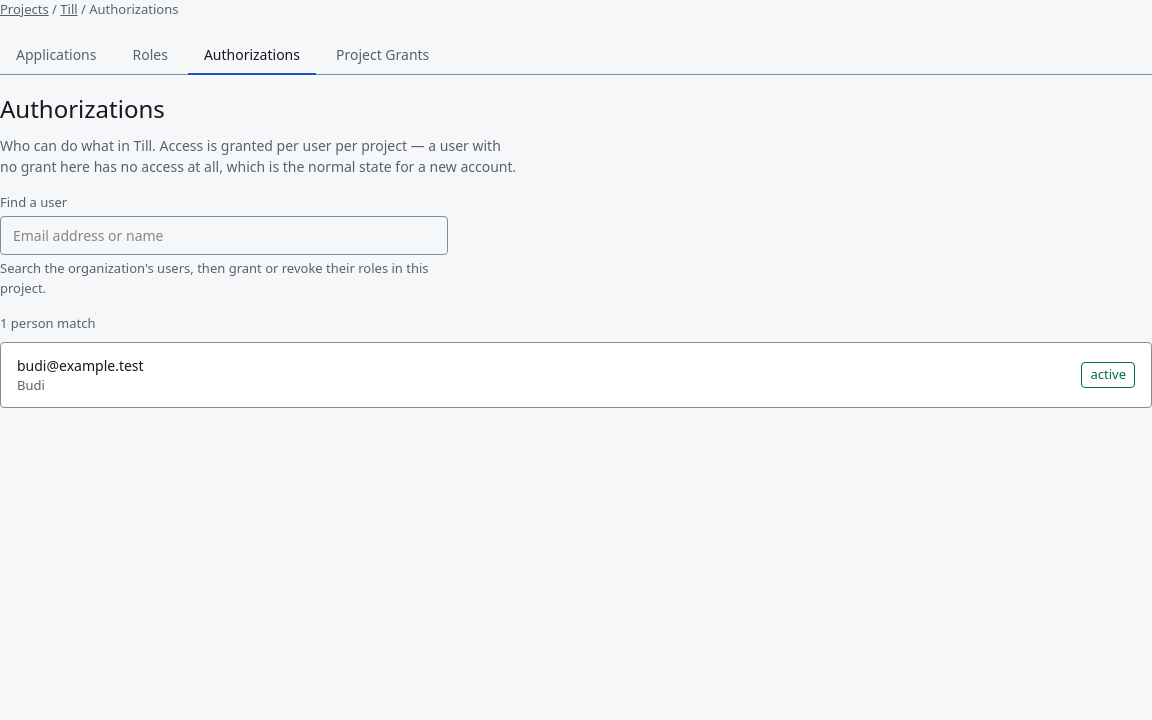
Test: granting roles › shows what each role carries, not just its name
Type "budi" into the search field labelled "Find a user". click: (224, 236)
box: left=0, top=216, right=448, bottom=255
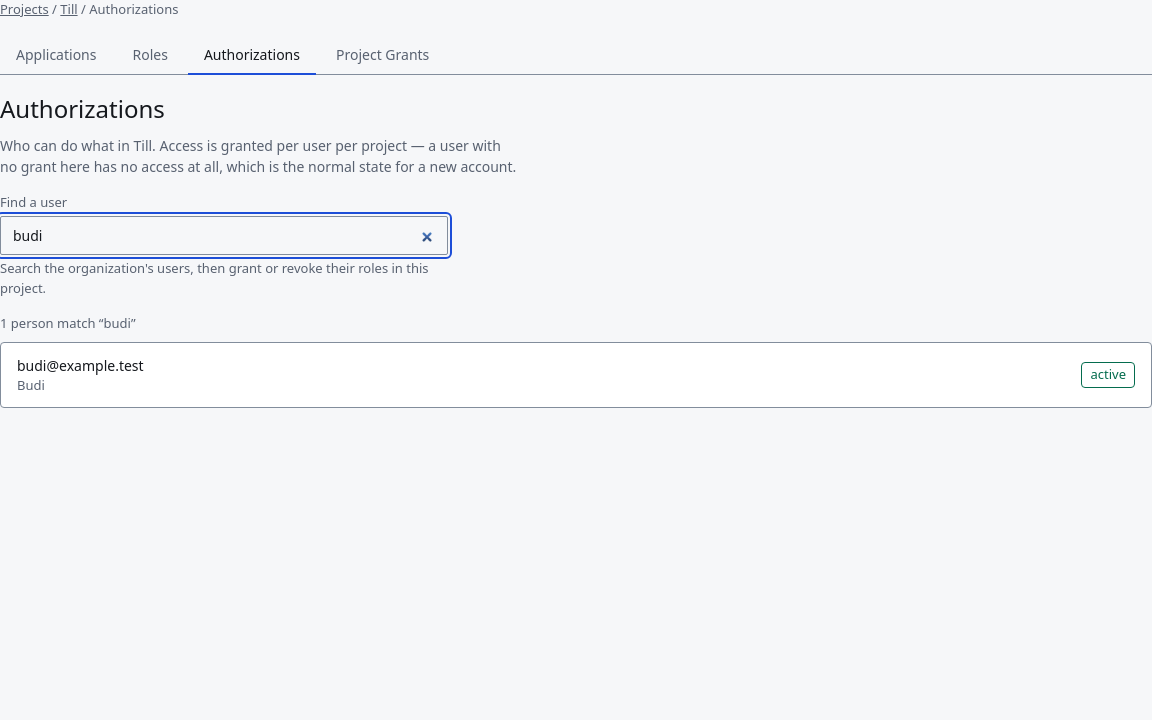
Click the button "budi@example.test Budi active". click: (80, 365)
box: left=1, top=342, right=1151, bottom=407
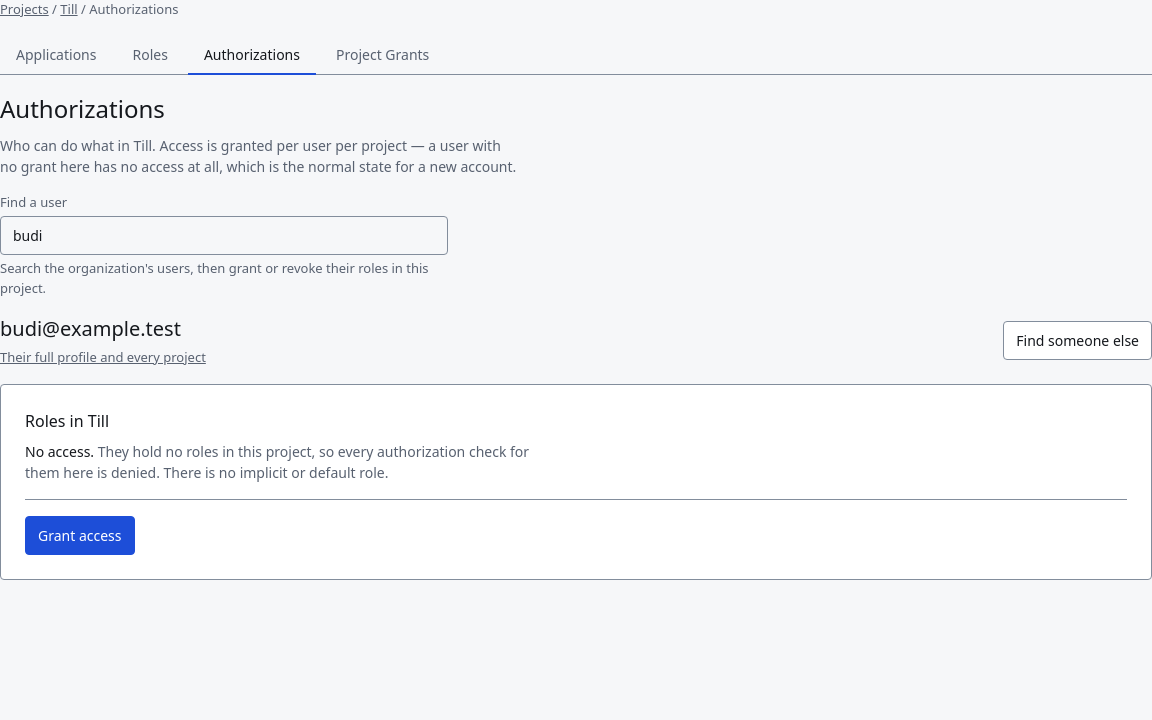
Click the button "Grant access". click: (80, 535)
box: left=25, top=516, right=134, bottom=554
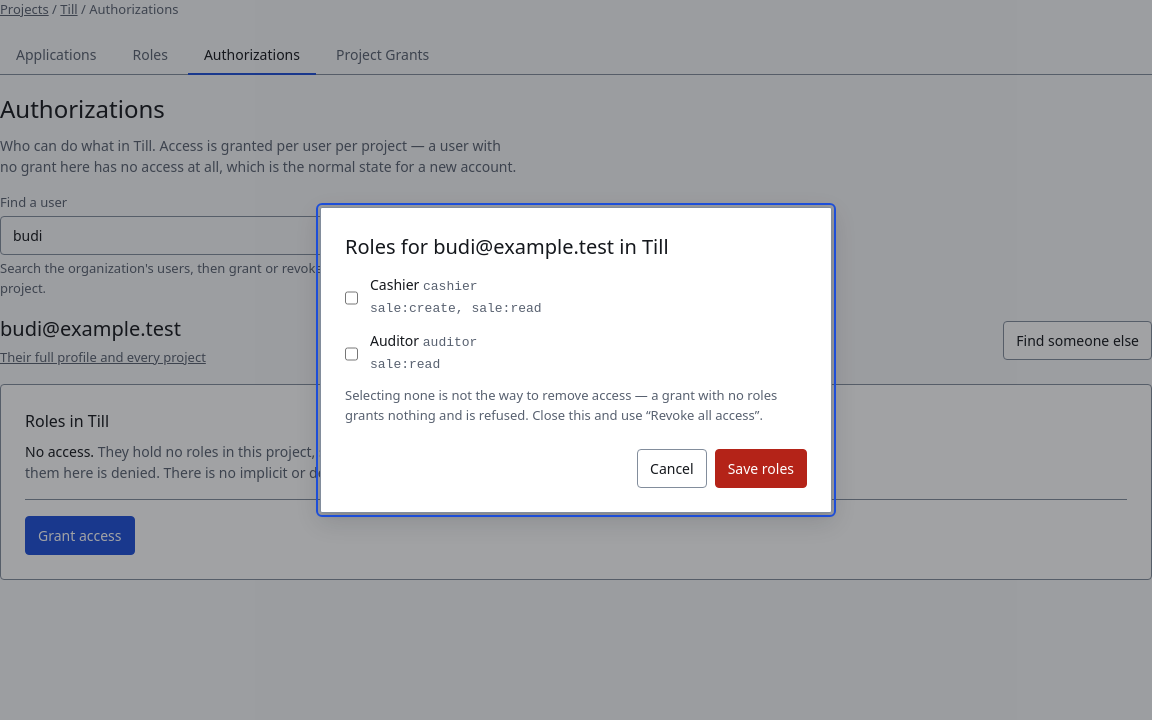
Result: the text "sale:create, sale:read" is shown at left=370, top=298, right=542, bottom=318
Result: the text "sale:read" is shown at left=370, top=356, right=440, bottom=372
